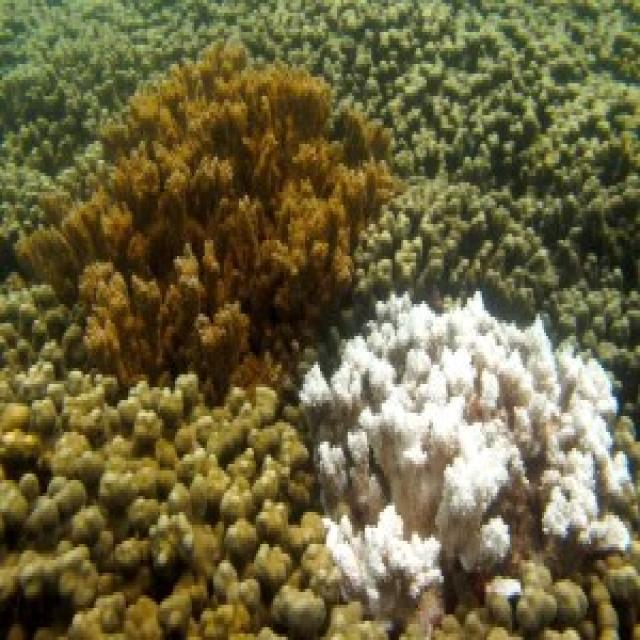Bleached: (302, 295, 630, 571), (327, 507, 440, 612)
Healthy: (1, 1, 639, 286), (1, 343, 325, 638), (27, 43, 391, 279), (357, 177, 628, 359), (82, 251, 270, 395), (432, 561, 639, 638), (1, 276, 65, 363)
